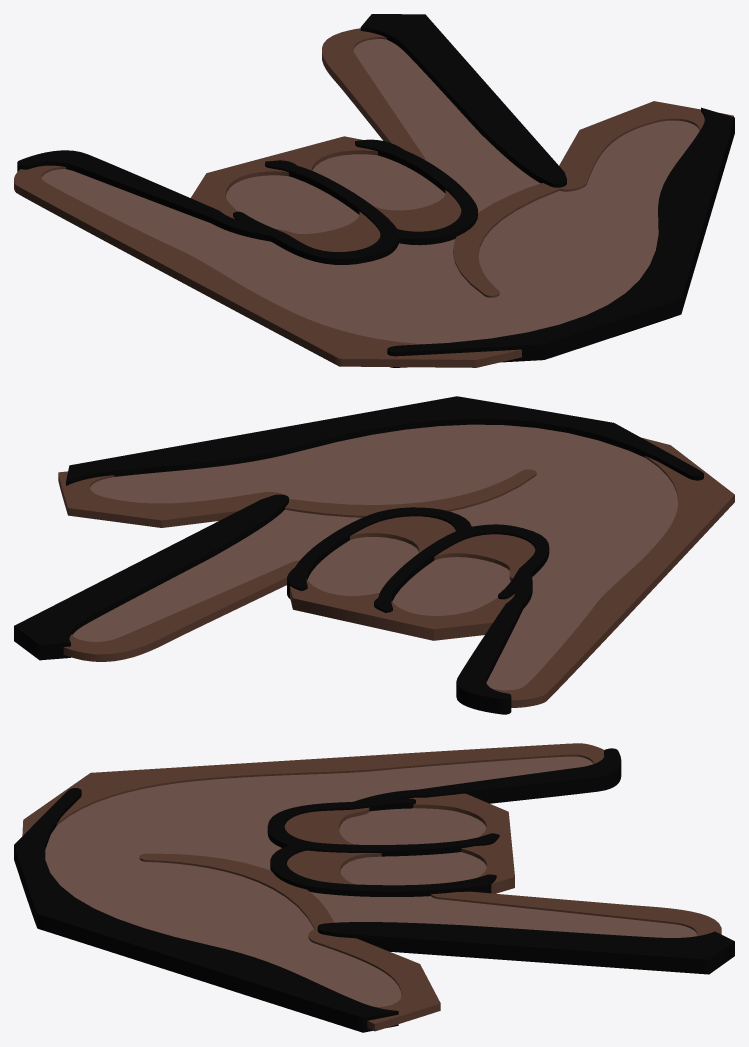
Rendered from emoji_u1f91f_1f3ff.glb.
The picture shows the model from 3 angles, top to bottom: view 1: azimuth 30°, elevation 25°; view 2: azimuth 150°, elevation 25°; view 3: azimuth 270°, elevation 25°; orthographic projection. The views are drawn at different scales.
Parts seen in each view (by area): view 1: emoji_u1f91f_1f3ff; view 2: emoji_u1f91f_1f3ff; view 3: emoji_u1f91f_1f3ff.
Boxes of the visible parts, left/top/right/bottom form: emoji_u1f91f_1f3ff: left=14, top=14, right=734, bottom=367; emoji_u1f91f_1f3ff: left=14, top=396, right=734, bottom=714; emoji_u1f91f_1f3ff: left=14, top=743, right=734, bottom=1032.
Bounding box in the file's own units: 0.0326 × 0.0008 × 0.0353.
